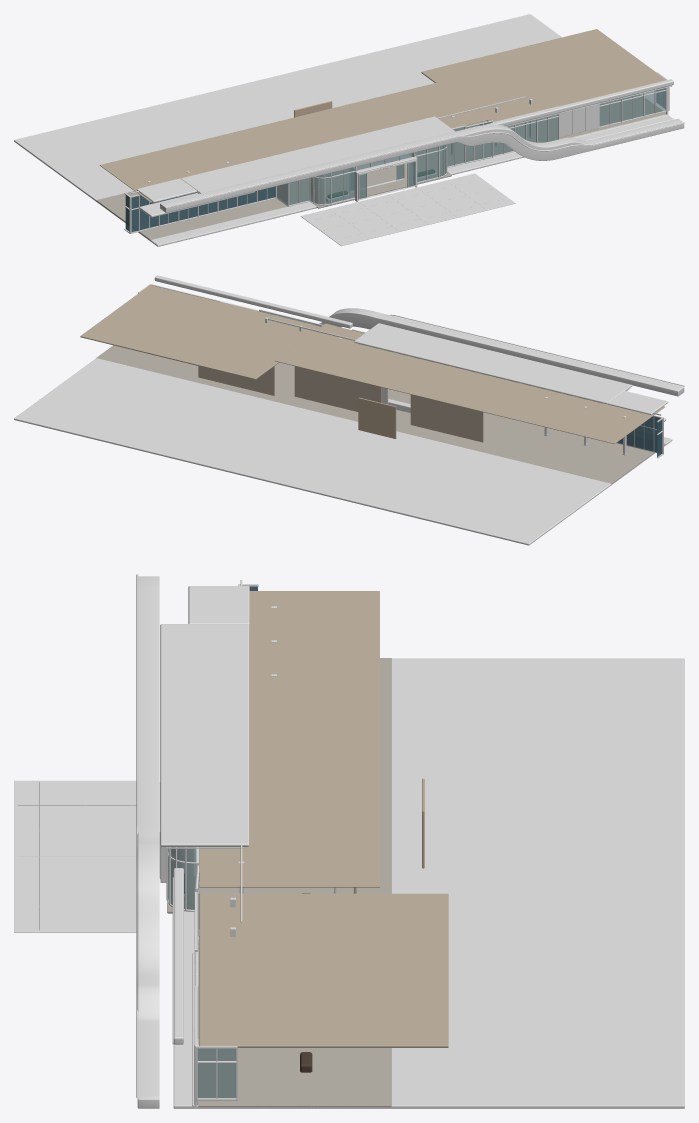
Rendered from Hospital_EXT_GroundEntrance.fbx.
The picture shows the model from 3 angles, top to bottom: view 1: azimuth 30°, elevation 25°; view 2: azimuth 150°, elevation 25°; view 3: azimuth 270°, elevation 25°; orthographic projection. The views are drawn at different scales.
Visible parts, largest first — view 1: UE_EXT_GroundEntrance_OPAQUE_ALL_14, UE_EXT_GroundEntrance_OPAQUE_ALL_12, UE_EXT_GroundEntrance_OPAQUE_ALL_05, UE_EXT_GroundEntrance_OPAQUE_ALL_11, UE_EXT_GroundEntrance_OPAQUE_ALL_08, UE_EXT_GroundEntrance_GLASS_ALL_02, UE_EXT_GroundEntrance_OPAQUE_ALL_01, UE_EXT_GroundEntrance_GLASS_ALL_03, UE_EXT_GroundEntrance_OPAQUE_ALL_04, UE_EXT_GroundEntrance_OPAQUE_ALL_02, UE_EXT_GroundEntrance_FIXTURE_ALL_01, UE_EXT_GroundEntrance_FIXTURE_ALL_02 (+2 smaller); view 2: UE_EXT_GroundEntrance_OPAQUE_ALL_14, UE_EXT_GroundEntrance_OPAQUE_ALL_12, UE_EXT_GroundEntrance_OPAQUE_ALL_05, UE_EXT_GroundEntrance_OPAQUE_ALL_11, UE_EXT_GroundEntrance_OPAQUE_ALL_10, UE_EXT_GroundEntrance_GLASS_ALL_03, UE_EXT_GroundEntrance_OPAQUE_ALL_01, UE_EXT_GroundEntrance_FIXTURE_ALL_01, UE_EXT_GroundEntrance_OPAQUE_ALL_02; view 3: UE_EXT_GroundEntrance_OPAQUE_ALL_14, UE_EXT_GroundEntrance_OPAQUE_ALL_12, UE_EXT_GroundEntrance_OPAQUE_ALL_05, UE_EXT_GroundEntrance_OPAQUE_ALL_08, UE_EXT_GroundEntrance_OPAQUE_ALL_11, UE_EXT_GroundEntrance_GLASS_ALL_02, UE_EXT_GroundEntrance_OPAQUE_ALL_01, UE_EXT_GroundEntrance_OPAQUE_ALL_02, UE_EXT_GroundEntrance_FIXTURE_ALL_01.
Boxes of the visible parts, <box> form: UE_EXT_GroundEntrance_OPAQUE_ALL_14: <box>14,14,673,246</box>; UE_EXT_GroundEntrance_OPAQUE_ALL_12: <box>99,29,666,202</box>; UE_EXT_GroundEntrance_OPAQUE_ALL_05: <box>136,79,684,217</box>; UE_EXT_GroundEntrance_OPAQUE_ALL_11: <box>96,94,665,240</box>; UE_EXT_GroundEntrance_OPAQUE_ALL_08: <box>300,173,515,246</box>; UE_EXT_GroundEntrance_GLASS_ALL_02: <box>277,87,665,204</box>; UE_EXT_GroundEntrance_OPAQUE_ALL_01: <box>124,72,669,233</box>; UE_EXT_GroundEntrance_GLASS_ALL_03: <box>125,186,275,231</box>; UE_EXT_GroundEntrance_OPAQUE_ALL_04: <box>559,86,668,137</box>; UE_EXT_GroundEntrance_OPAQUE_ALL_02: <box>131,85,671,239</box>; UE_EXT_GroundEntrance_FIXTURE_ALL_01: <box>166,122,684,207</box>; UE_EXT_GroundEntrance_FIXTURE_ALL_02: <box>166,122,684,207</box>; UE_EXT_GroundEntrance_OPAQUE_ALL_14: <box>14,358,672,545</box>; UE_EXT_GroundEntrance_OPAQUE_ALL_12: <box>80,285,664,443</box>; UE_EXT_GroundEntrance_OPAQUE_ALL_05: <box>154,275,684,421</box>; UE_EXT_GroundEntrance_OPAQUE_ALL_11: <box>96,345,665,483</box>; UE_EXT_GroundEntrance_OPAQUE_ALL_10: <box>358,397,396,438</box>; UE_EXT_GroundEntrance_GLASS_ALL_03: <box>617,416,661,456</box>; UE_EXT_GroundEntrance_OPAQUE_ALL_01: <box>138,284,663,458</box>; UE_EXT_GroundEntrance_FIXTURE_ALL_01: <box>390,314,684,386</box>; UE_EXT_GroundEntrance_OPAQUE_ALL_02: <box>260,311,661,415</box>; UE_EXT_GroundEntrance_OPAQUE_ALL_14: <box>173,658,684,1108</box>; UE_EXT_GroundEntrance_OPAQUE_ALL_12: <box>199,591,448,1047</box>; UE_EXT_GroundEntrance_OPAQUE_ALL_05: <box>137,576,249,1108</box>; UE_EXT_GroundEntrance_OPAQUE_ALL_08: <box>14,780,136,932</box>; UE_EXT_GroundEntrance_OPAQUE_ALL_11: <box>167,658,391,1107</box>; UE_EXT_GroundEntrance_GLASS_ALL_02: <box>168,847,236,1097</box>; UE_EXT_GroundEntrance_OPAQUE_ALL_01: <box>159,584,276,1100</box>; UE_EXT_GroundEntrance_OPAQUE_ALL_02: <box>18,580,243,1044</box>; UE_EXT_GroundEntrance_FIXTURE_ALL_01: <box>136,574,138,1098</box>.
Bounding box in the file's own units: 72.53 × 6.34 × 45.
